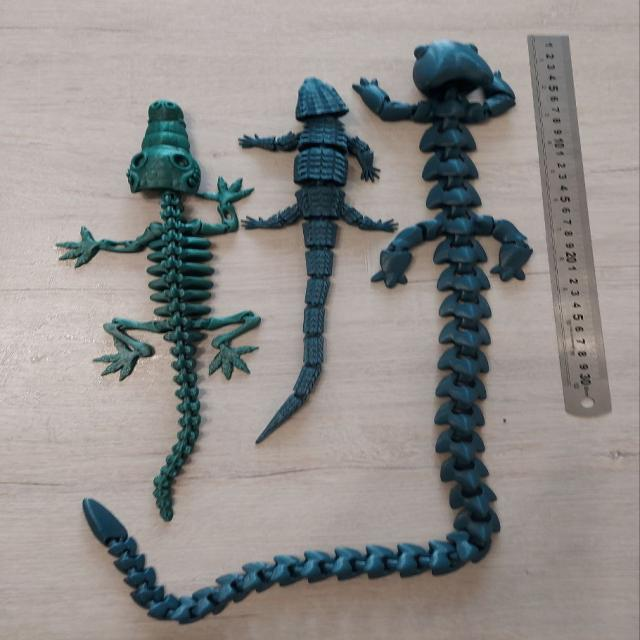Without deffect: (26, 24, 550, 639)
